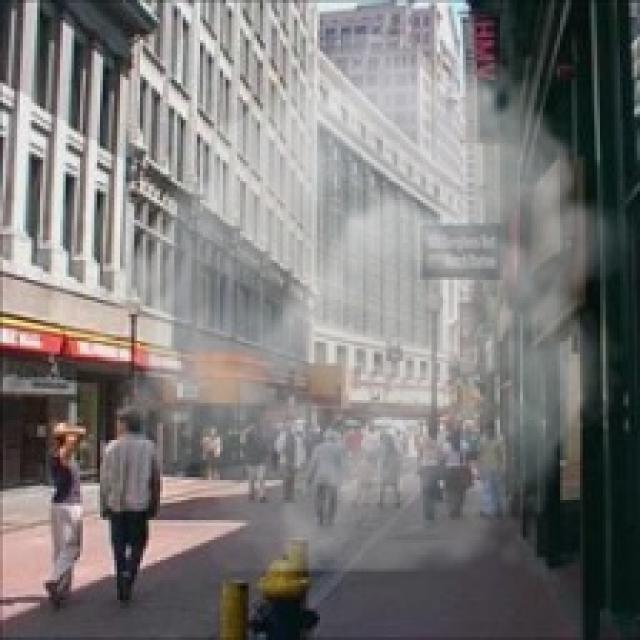Smoke: (91, 34, 634, 572)
